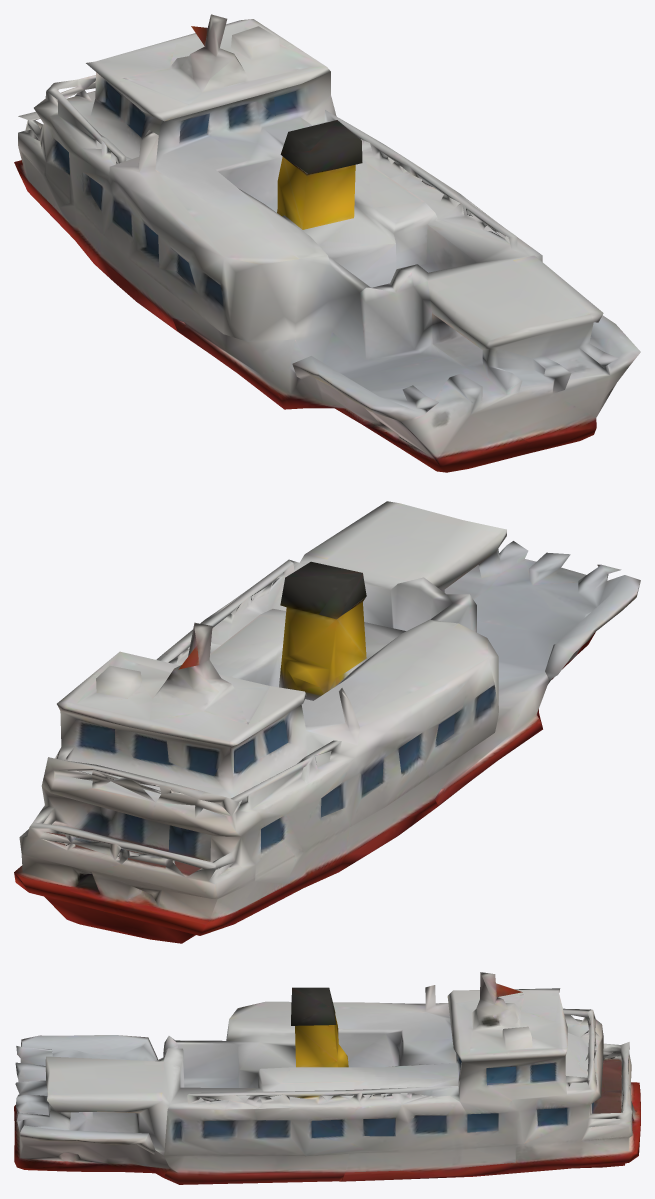
The model's file is ferry.glb.
The picture shows the model from 3 angles, top to bottom: view 1: azimuth 30°, elevation 25°; view 2: azimuth 150°, elevation 25°; view 3: azimuth 270°, elevation 25°; orthographic projection. The views are drawn at different scales.
Parts seen in each view (by area): view 1: tripo_node_6726aaea-5884-45f4-8a27-d3e2f39a9e16; view 2: tripo_node_6726aaea-5884-45f4-8a27-d3e2f39a9e16; view 3: tripo_node_6726aaea-5884-45f4-8a27-d3e2f39a9e16.
Boxes of the visible parts, left/top/right/bottom form: tripo_node_6726aaea-5884-45f4-8a27-d3e2f39a9e16: left=14, top=14, right=640, bottom=472; tripo_node_6726aaea-5884-45f4-8a27-d3e2f39a9e16: left=14, top=501, right=640, bottom=943; tripo_node_6726aaea-5884-45f4-8a27-d3e2f39a9e16: left=14, top=972, right=640, bottom=1184.
Size of the model in its own units: 6 by 4.75 by 15.
Materials: 1 (1 with a texture image).
